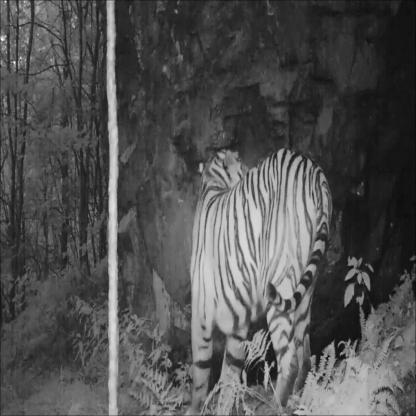Tiger: (184, 127, 343, 416)
